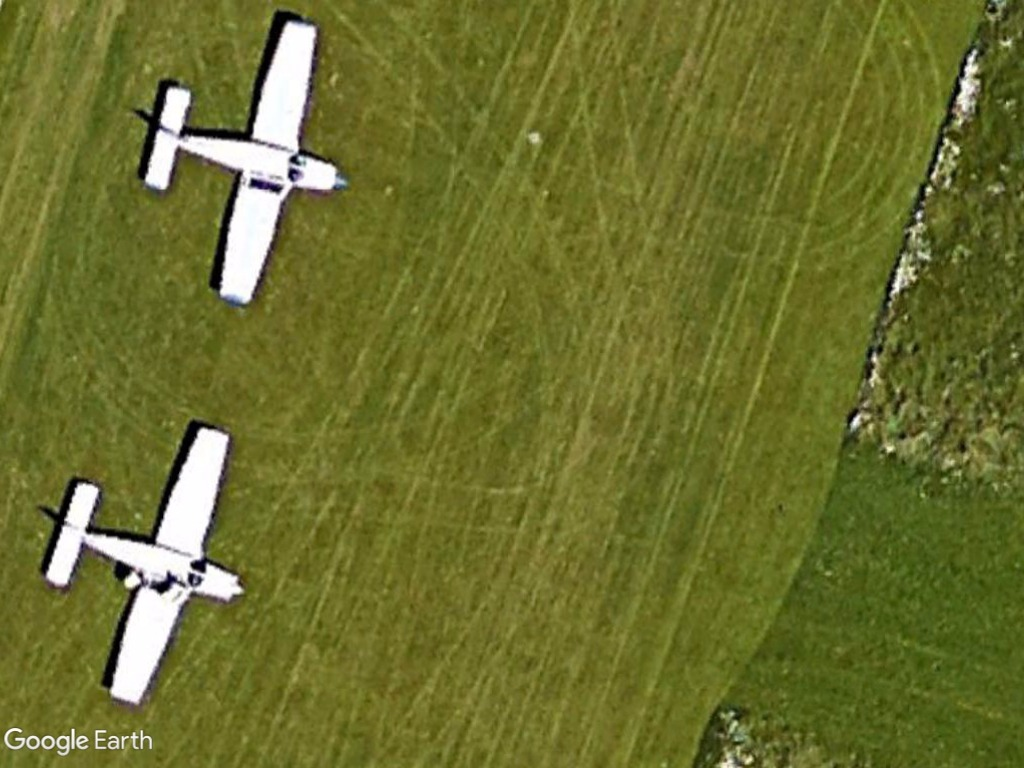trainer: (127, 12, 354, 316), (30, 419, 258, 710)
